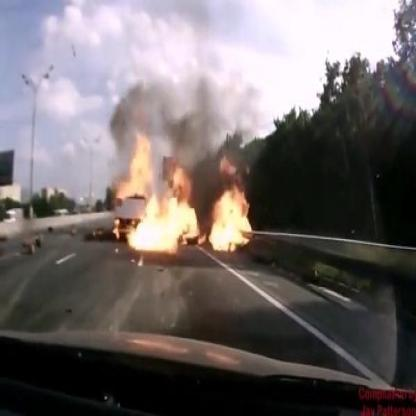fire: (108, 120, 255, 259)
